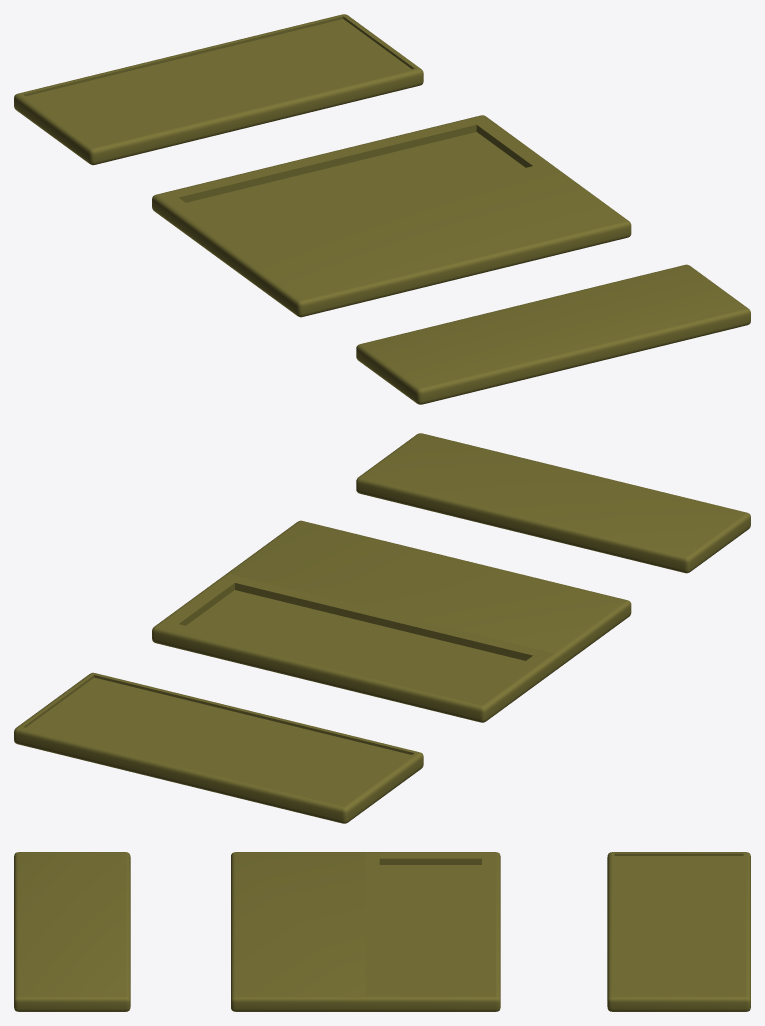
Rendered from carteles.fbx.
The picture shows the model from 3 angles, top to bottom: view 1: azimuth 30°, elevation 25°; view 2: azimuth 150°, elevation 25°; view 3: azimuth 270°, elevation 25°; orthographic projection. The views are drawn at different scales.
Parts seen in each view (by area): view 1: cartel2, cartel3, cartel; view 2: cartel2, cartel3, cartel; view 3: cartel2, cartel3, cartel.
Part boxes in pixels (bbox=[...]): cartel2: bbox=[152, 115, 631, 317]; cartel3: bbox=[14, 14, 423, 165]; cartel: bbox=[356, 264, 750, 404]; cartel2: bbox=[152, 520, 631, 722]; cartel3: bbox=[14, 672, 423, 823]; cartel: bbox=[356, 433, 750, 573]; cartel2: bbox=[231, 852, 500, 1011]; cartel3: bbox=[607, 852, 750, 1011]; cartel: bbox=[14, 852, 130, 1011].
Bounding box in the file's own units: 1.5 × 0.07 × 3.16.
